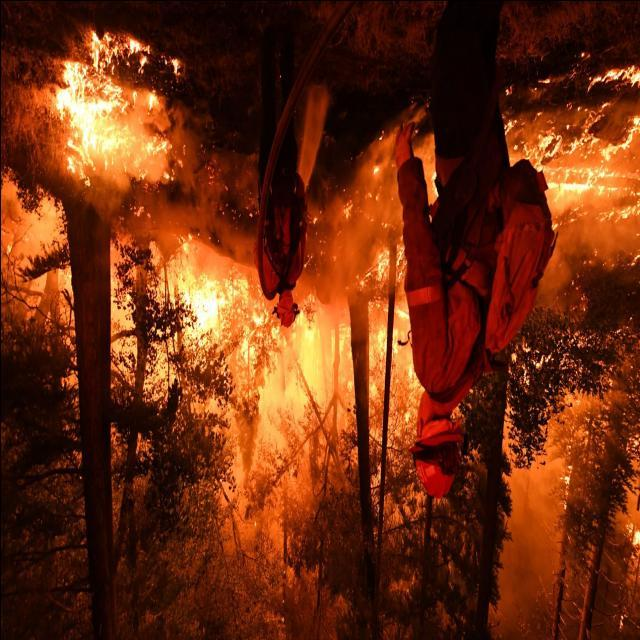Fire: (338, 60, 638, 413), (54, 32, 178, 192), (158, 248, 292, 388)
